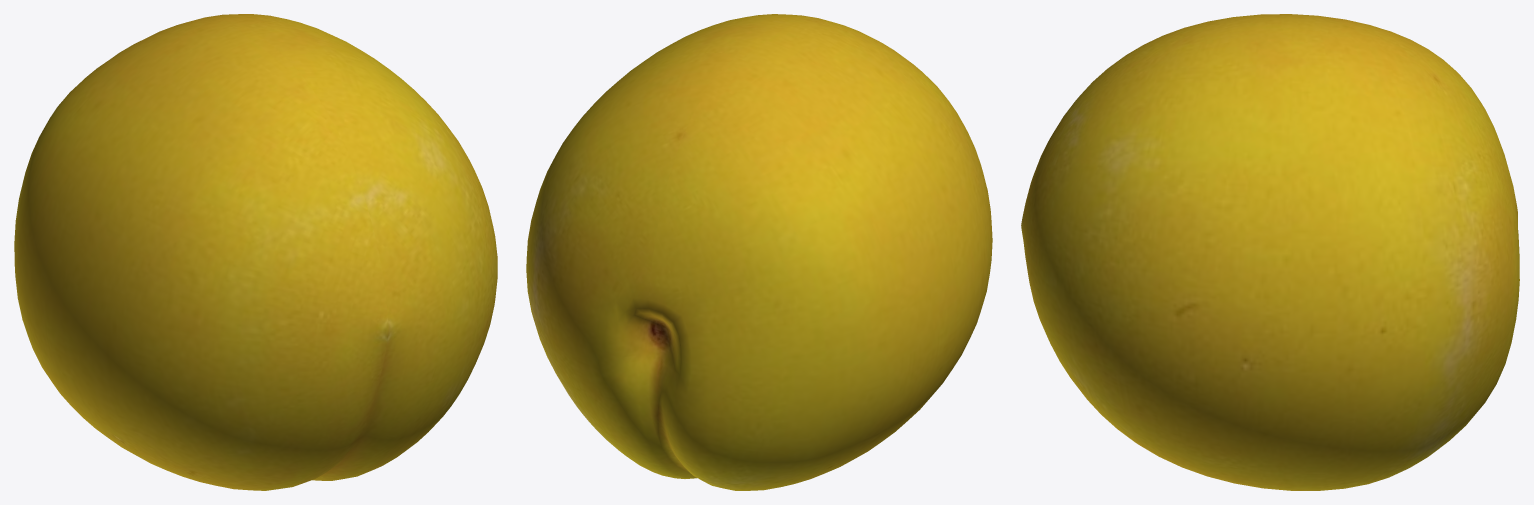
File: YellowPeachPeel.obj
The picture shows the model from 3 angles, left to right: view 1: azimuth 30°, elevation 25°; view 2: azimuth 150°, elevation 25°; view 3: azimuth 270°, elevation 25°; orthographic projection. The views are drawn at different scales.
Visible parts, largest first — view 1: YellowPeachPeel; view 2: YellowPeachPeel; view 3: YellowPeachPeel.
Part boxes in pixels (left/top/right/bottom): YellowPeachPeel: left=14, top=14, right=497, bottom=490; YellowPeachPeel: left=526, top=14, right=992, bottom=490; YellowPeachPeel: left=1021, top=14, right=1519, bottom=490.
Size of the model in its own units: 0.0988 by 0.1025 by 0.107.
Materials: 1 (1 with a texture image).
